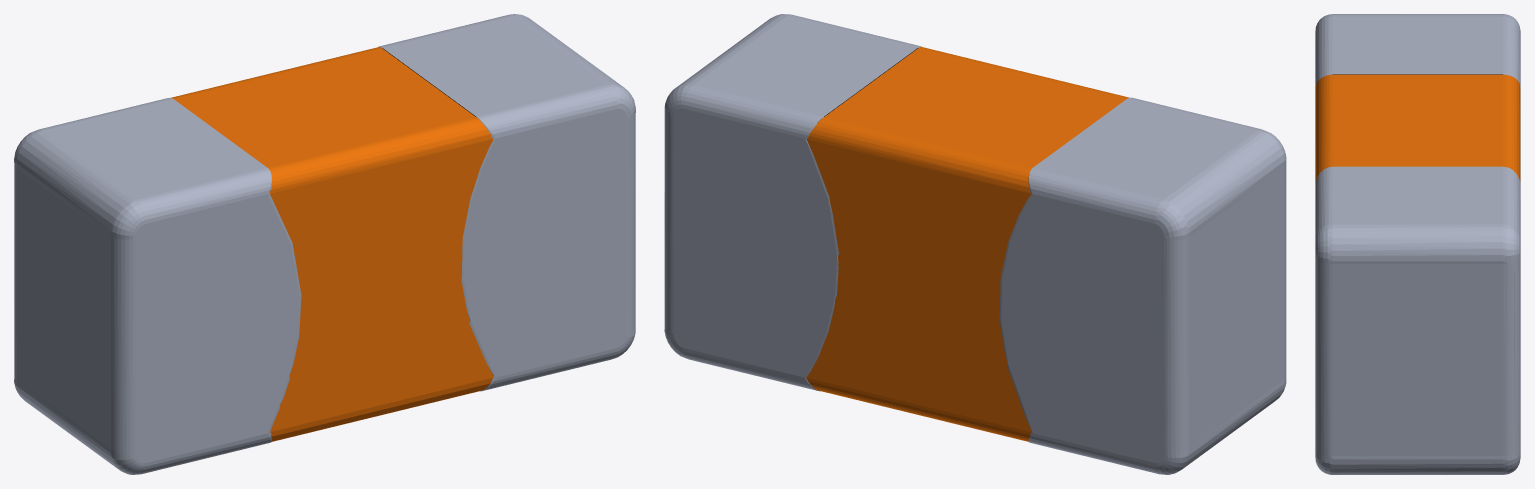
File: Ceramic CAP0603.obj
The picture shows the model from 3 angles, left to right: view 1: azimuth 30°, elevation 25°; view 2: azimuth 150°, elevation 25°; view 3: azimuth 270°, elevation 25°; orthographic projection. The views are drawn at different scales.
Visible parts, largest first — view 1: Ceramic_CAP0603; view 2: Ceramic_CAP0603; view 3: Ceramic_CAP0603.
Boxes of the visible parts, x1,y1,x2,y2 form: Ceramic_CAP0603: [14, 14, 635, 474]; Ceramic_CAP0603: [664, 14, 1286, 474]; Ceramic_CAP0603: [1315, 14, 1520, 474].
Bounding box in the file's own units: 0.0136 × 0.0068 × 0.0051.
